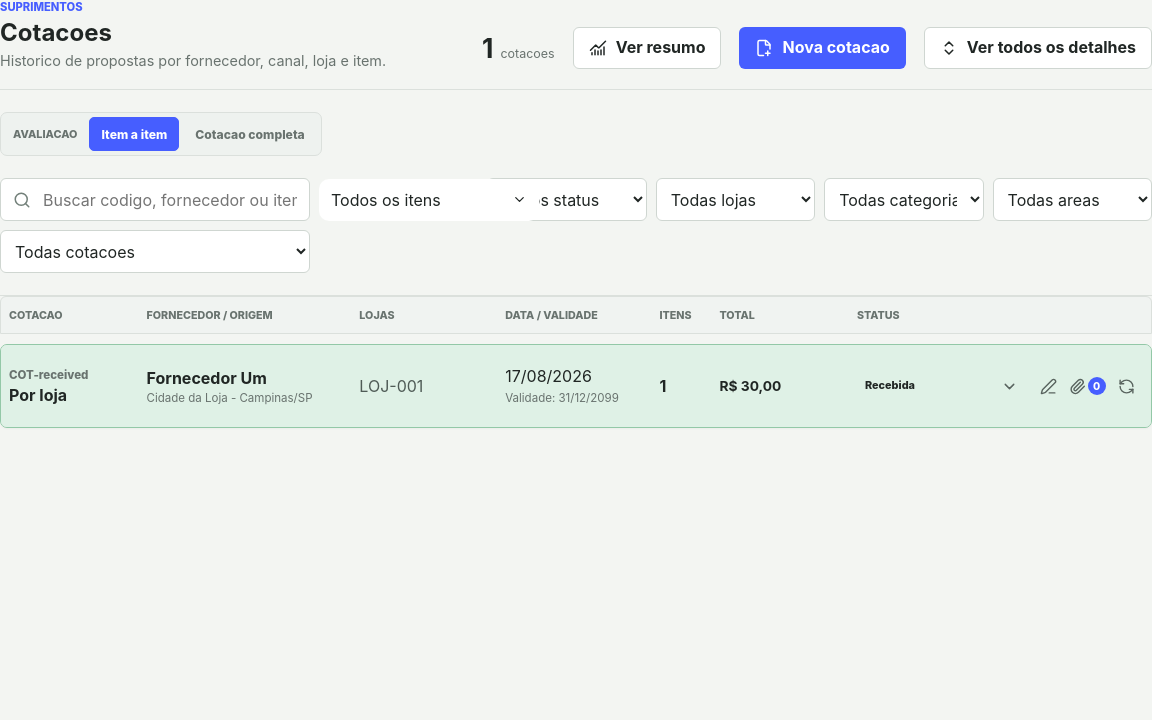
Test: SupplyQuotesPage › orienta devolver a compra quando houver CMP ativa ao voltar para rascunho
Click the button named "Alterar status COT-received" at (1126, 386), box [1109,369,1143,403]
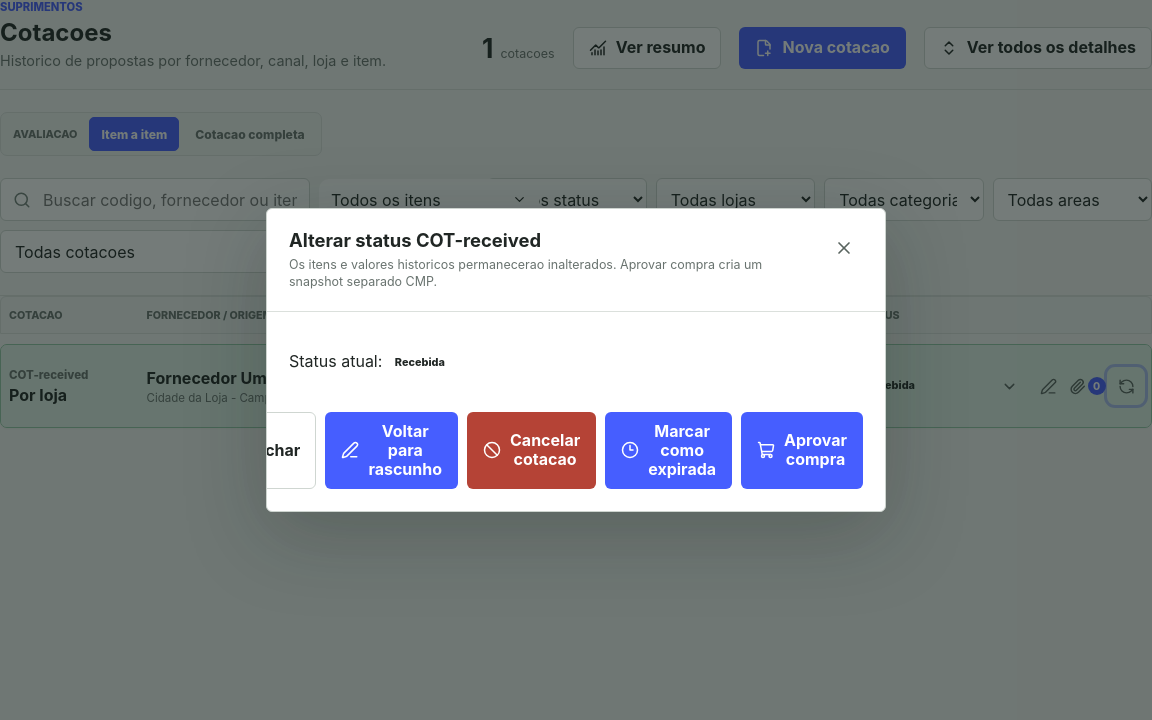
Click the button "Voltar para rascunho" at (392, 450), box [325,412,458,489]
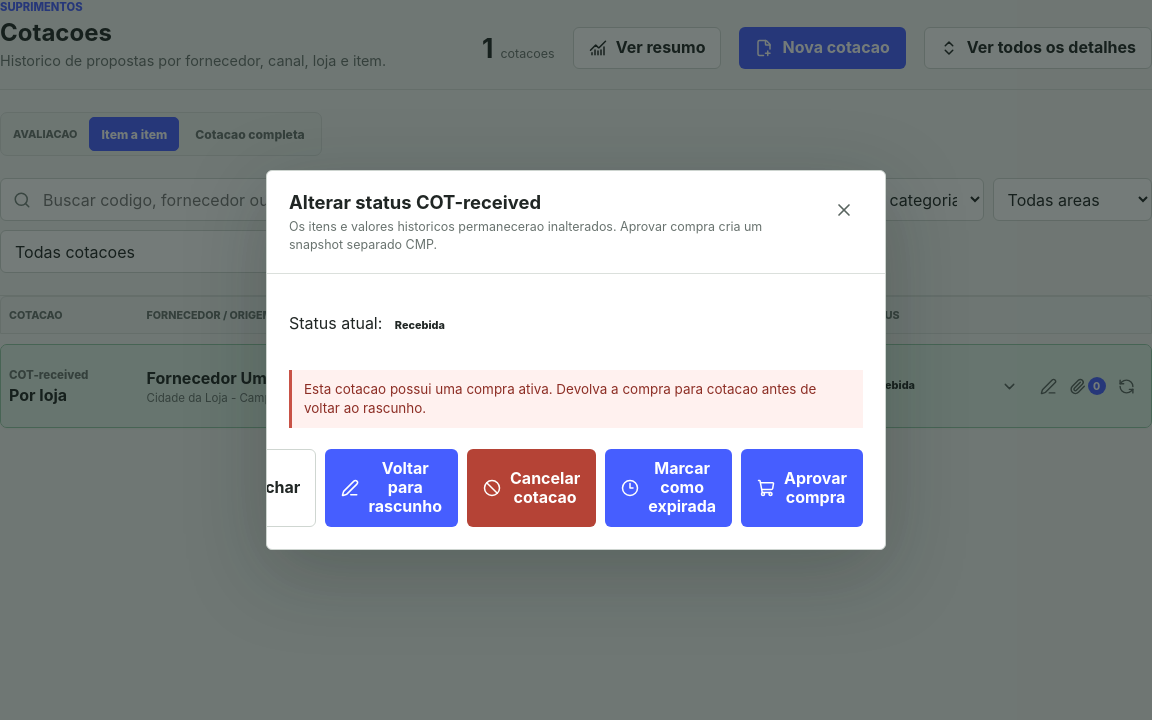
Now the text "Esta cotacao possui uma compra ativa. Devolva a compra para cotacao antes de voltar ao rascunho." is shown, box [304,381,816,416]
